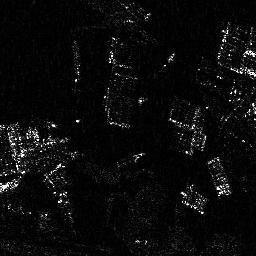ship: (204, 155, 234, 200), (179, 183, 207, 214), (71, 38, 82, 84), (116, 152, 146, 167), (158, 51, 176, 71)
